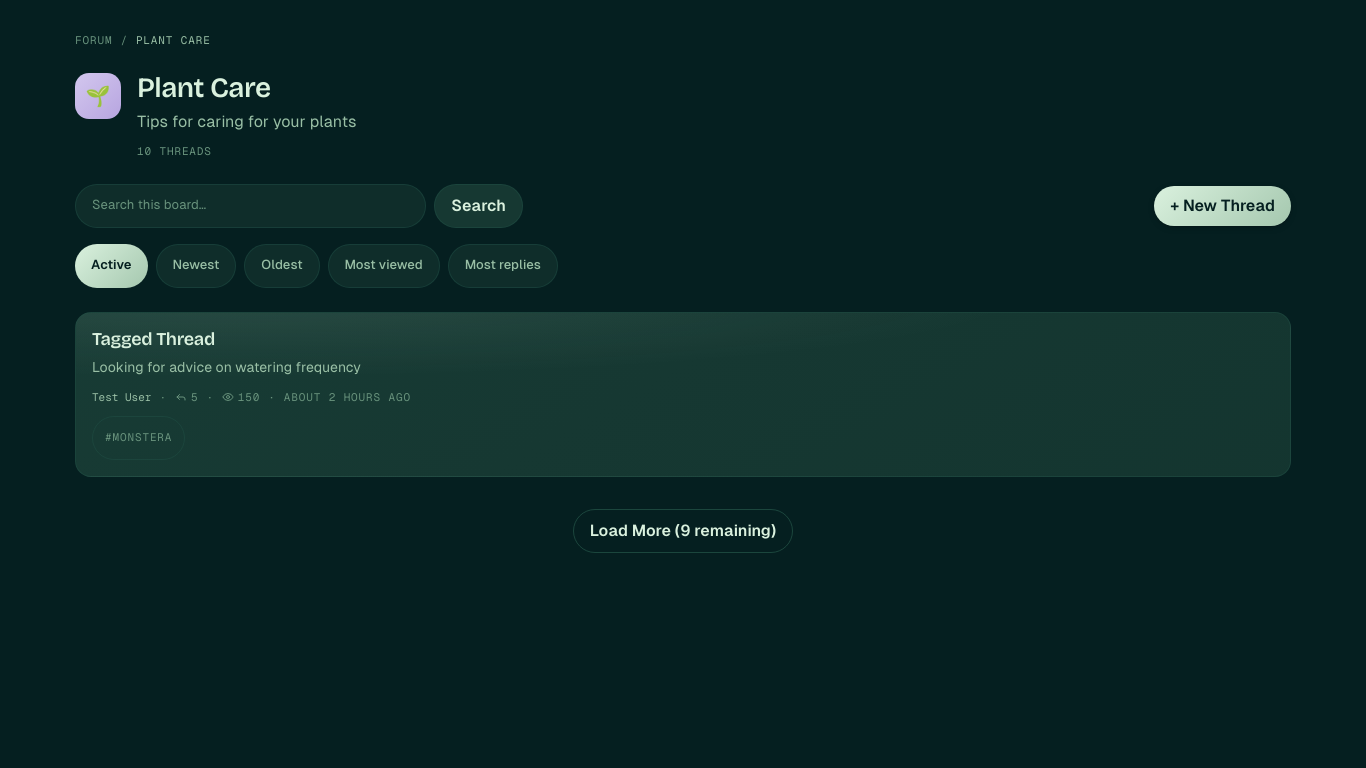
Test: ThreadListPage › drops the stale Load More while a tag reload is in flight (review repair)
Expected: the button "Load More (9 remaining)" is shown, [573,509,793,553]
Step 1. Click the button "#monstera" → [139, 438], box [92,416,185,460]
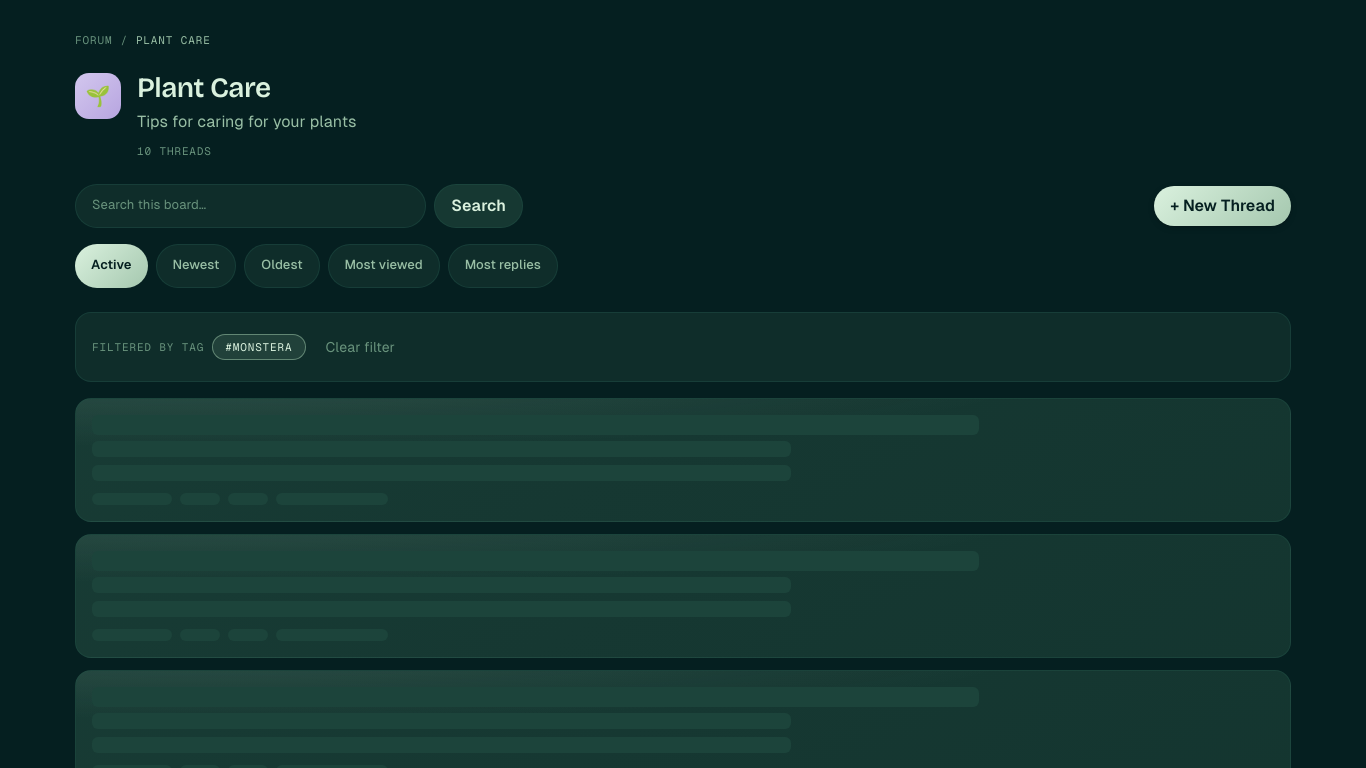
Result: the button "Load More" is gone
